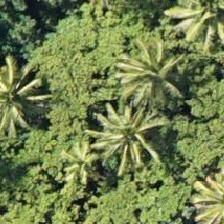coconut_tree: (108, 32, 198, 122), (79, 97, 169, 187), (0, 57, 53, 147), (163, 0, 223, 55)
